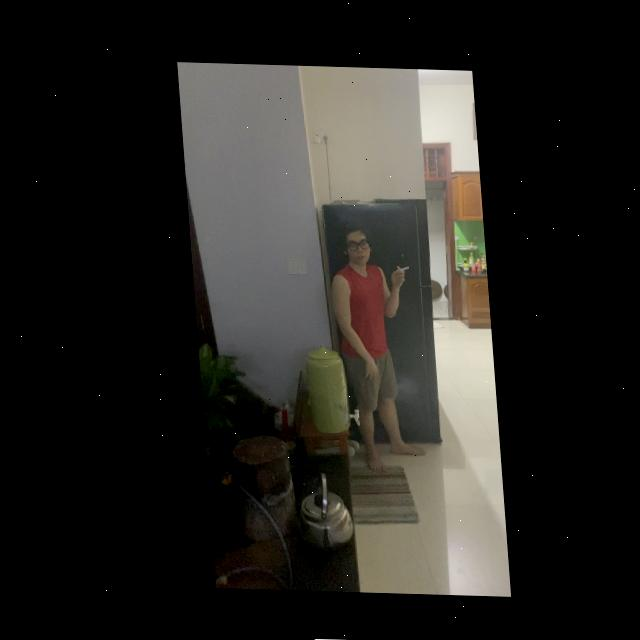cigarette: (391, 264, 405, 270)
